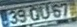3: (7, 10, 18, 25)
6: (51, 3, 61, 18)
7: (59, 2, 68, 17)
9: (16, 9, 27, 23)
Q: (28, 6, 41, 21)
U: (38, 4, 50, 20)
